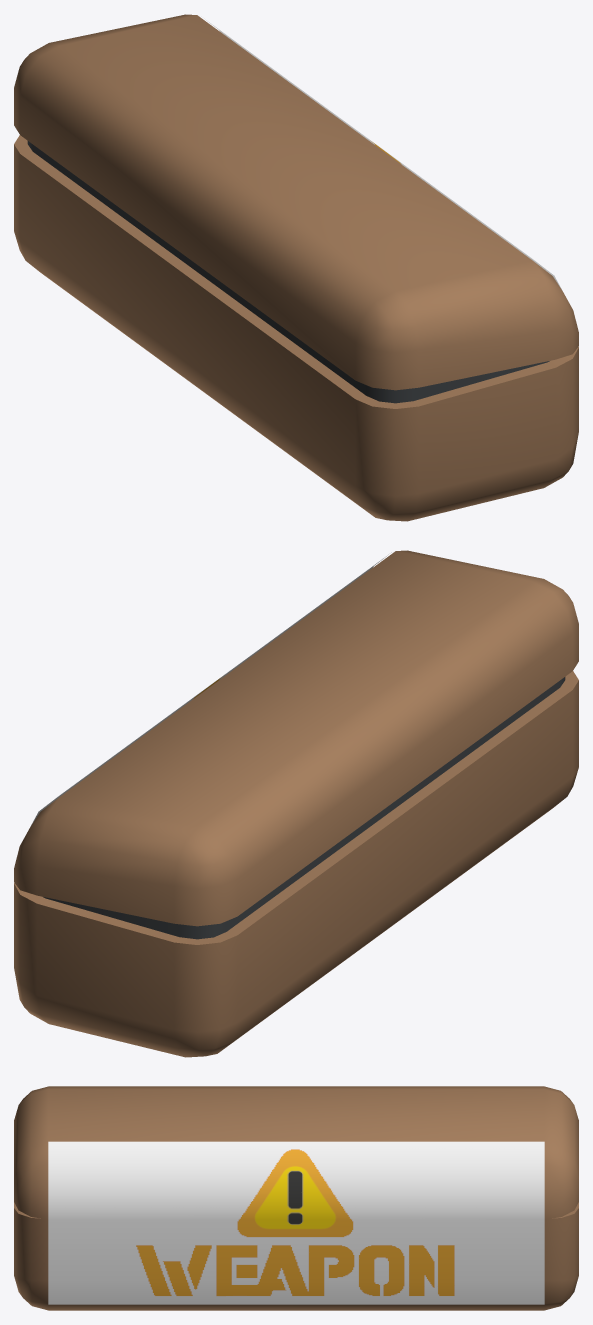
File: WeaponBox.fbx
The picture shows the model from 3 angles, top to bottom: view 1: azimuth 30°, elevation 25°; view 2: azimuth 150°, elevation 25°; view 3: azimuth 270°, elevation 25°; orthographic projection. The views are drawn at different scales.
Parts seen in each view (by area): view 1: Cube.001; view 2: Cube.001; view 3: Cube.001.
Part boxes in pixels (<box>): Cube.001: <box>14,14,578,521</box>; Cube.001: <box>14,550,578,1057</box>; Cube.001: <box>14,1086,578,1310</box>.
Size of the model in its own units: 2.02 by 2 by 6.08.
